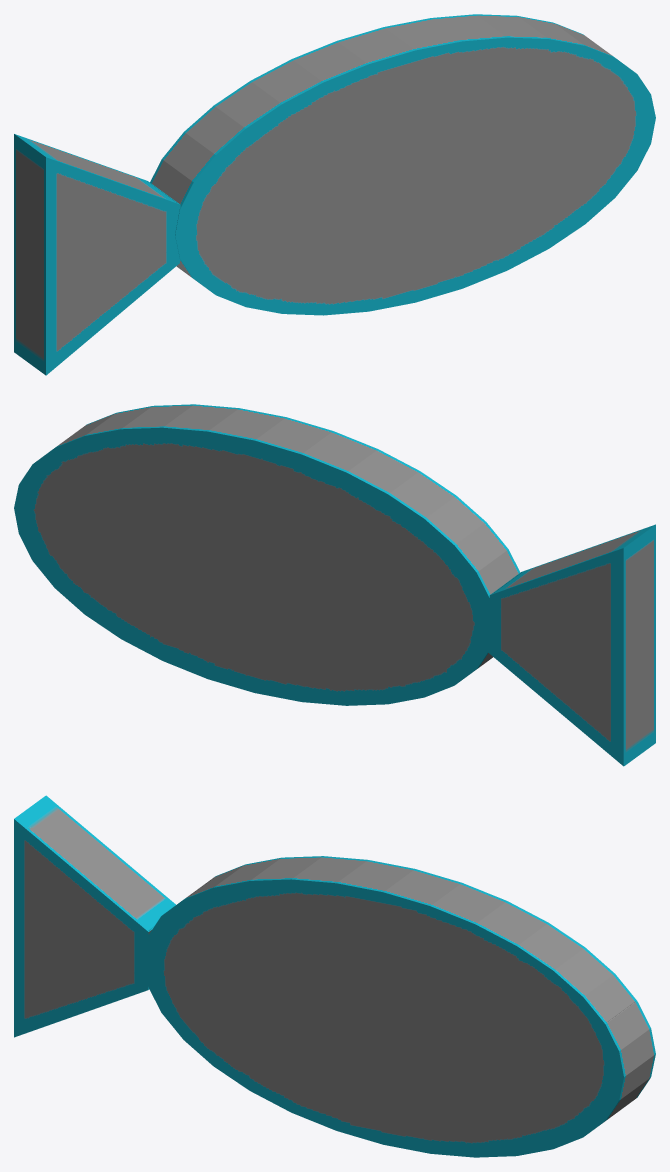
File: item.obj
3 renders of one model, top to bottom at view 1: azimuth 30°, elevation 25°; view 2: azimuth 150°, elevation 25°; view 3: azimuth 330°, elevation 25°, orthographic.
Parts seen in each view (by area): view 1: 円柱_円柱.001; view 2: 円柱_円柱.001; view 3: 円柱_円柱.001.
Boxes of the visible parts, <box> form: 円柱_円柱.001: <box>14,14,655,375</box>; 円柱_円柱.001: <box>14,404,655,766</box>; 円柱_円柱.001: <box>14,795,655,1157</box>.
Size of the model in its own units: 2.53 by 1 by 0.2323.
1 material, 1 textured.
